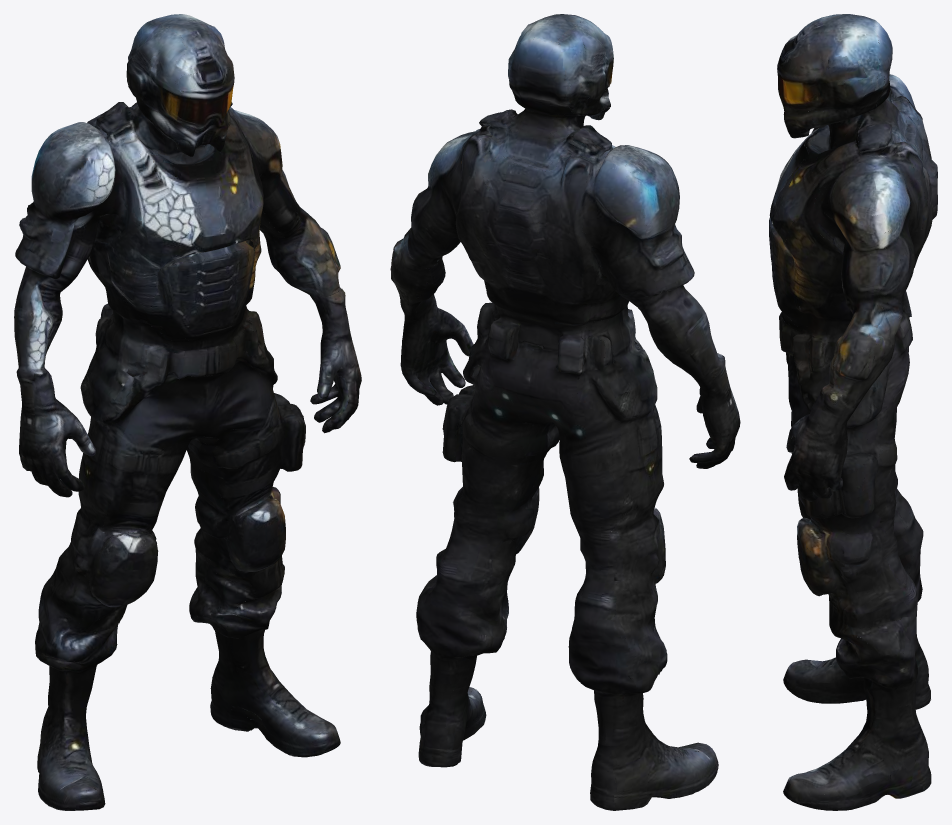
The model's file is commander.glb.
3 views of the same model, side by side, from view 1: azimuth 30°, elevation 25°; view 2: azimuth 150°, elevation 25°; view 3: azimuth 270°, elevation 25° (orthographic). The views are drawn at different scales.
Visible parts, largest first — view 1: Mesh_0; view 2: Mesh_0; view 3: Mesh_0.
Boxes of the visible parts, <box> form: Mesh_0: <box>14,14,361,810</box>; Mesh_0: <box>390,14,740,810</box>; Mesh_0: <box>769,14,937,810</box>.
Bounding box in the file's own units: 0.9291 × 2 × 0.4203.
1 material, 1 textured.
